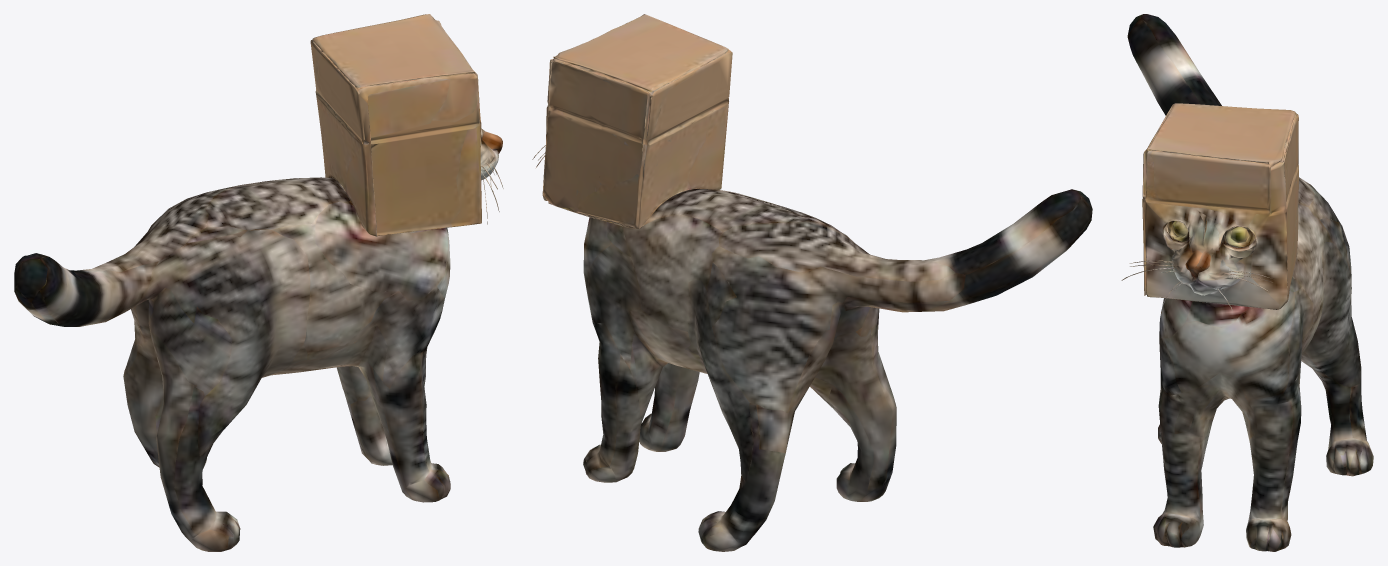
File: anonymous-cat-lo.glb
The picture shows the model from 3 angles, left to right: view 1: azimuth 30°, elevation 25°; view 2: azimuth 150°, elevation 25°; view 3: azimuth 270°, elevation 25°; orthographic projection. The views are drawn at different scales.
Visible parts, largest first — view 1: fit; view 2: fit; view 3: fit.
Boxes of the visible parts, x1,y1,x2,y2 form: fit: (14, 14, 503, 551); fit: (532, 14, 1092, 551); fit: (1121, 14, 1373, 551).
Bounding box in the file's own units: 1.25 × 0.999 × 0.5603.
1 material, 1 textured.
